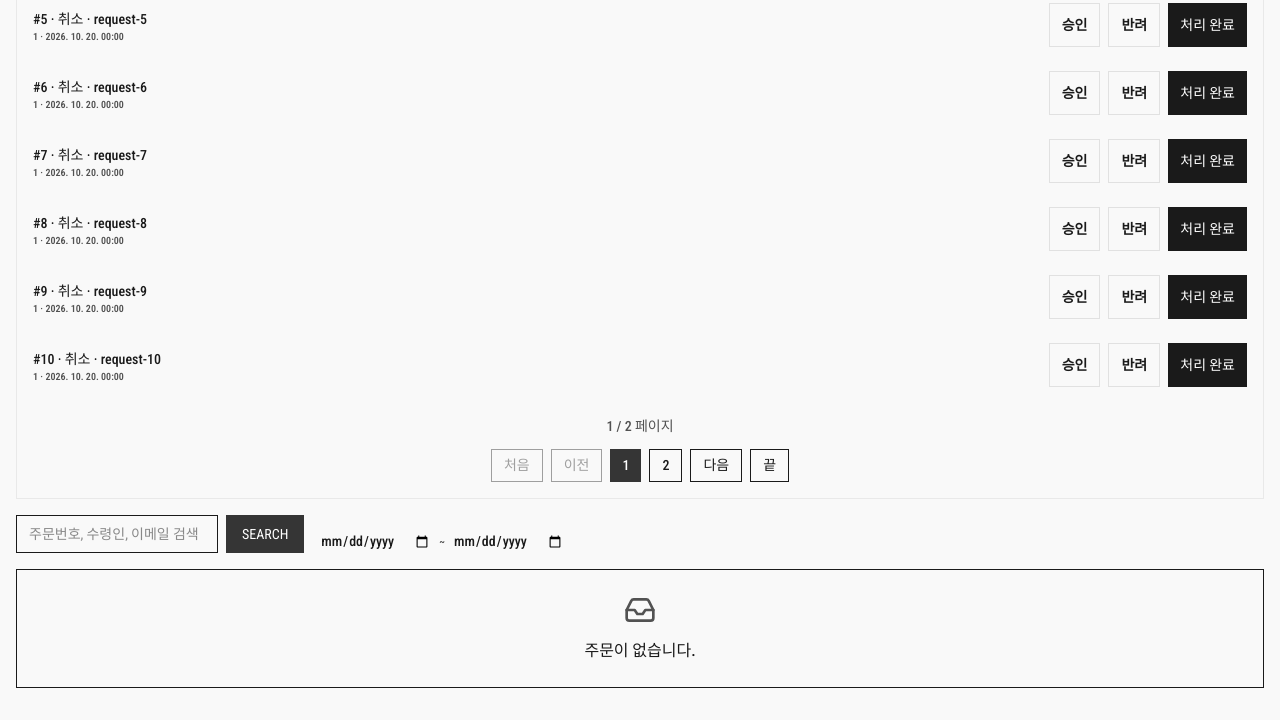
Scenario: admin order service request workflow › loads the eleventh request through server pagination
(page scrolled)
Click the button "2".
click(666, 466)  # box [649,449,682,482]
(page scrolled)
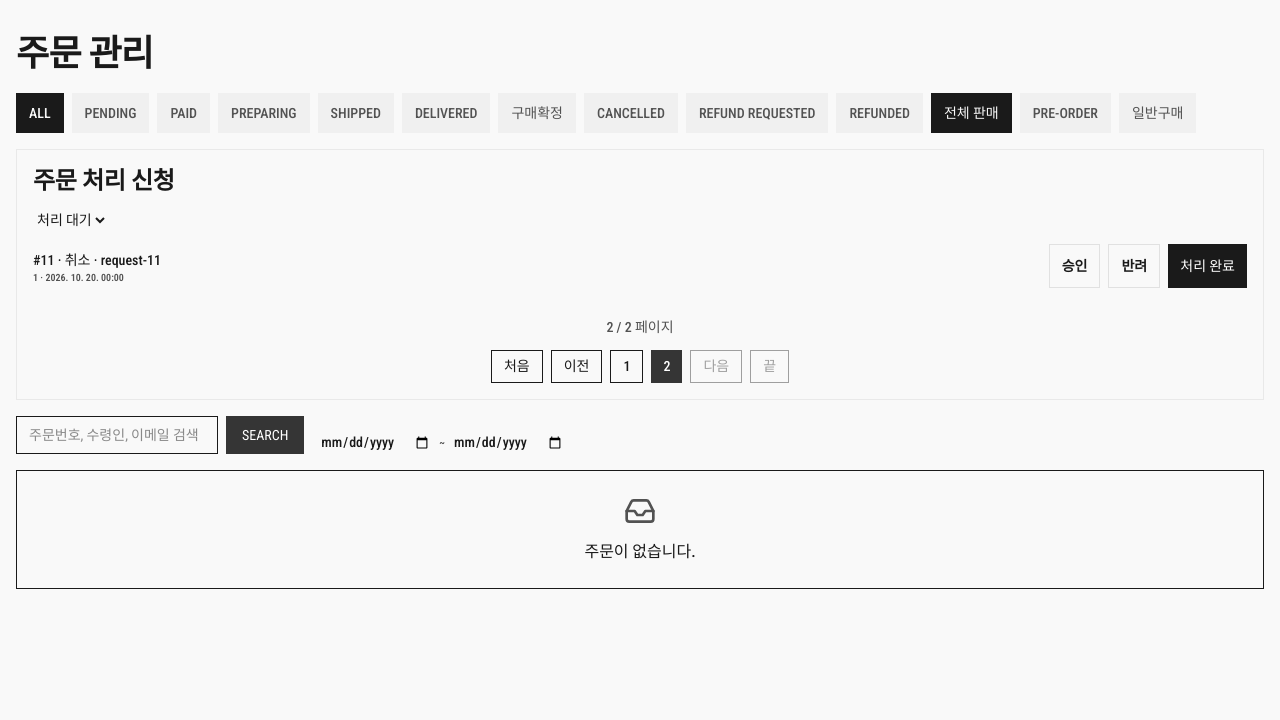
Result: the text "#11 · 취소 · request-11" is shown at [33,249,161,272]
